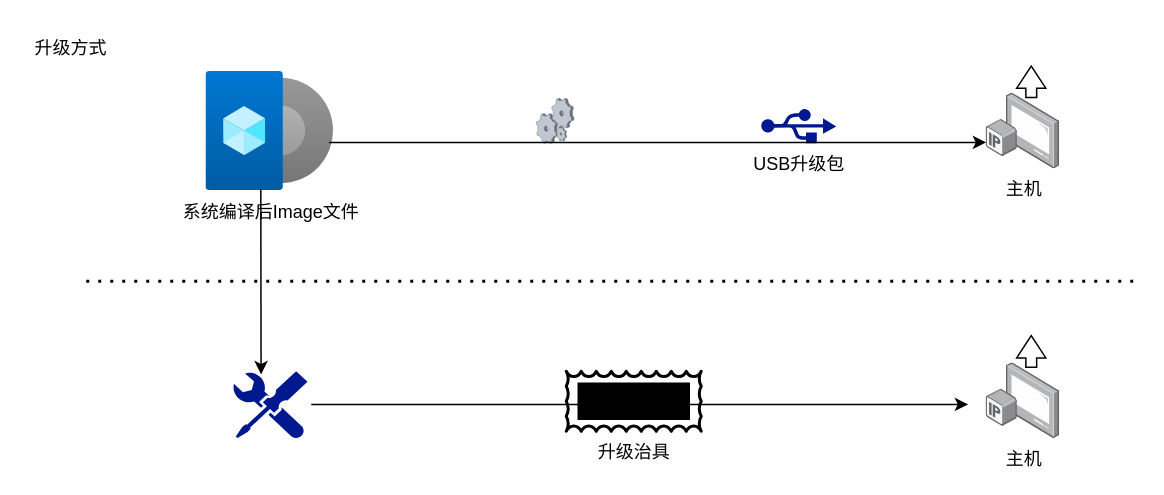
This 1164x495 diagram has some shape labels left out. The shapes that lost their labels are listed below. From the top down, each one's centre as x and y in pixels, then its label:
the point at 554,120: Encryption
the point at 269,404: QFILE
